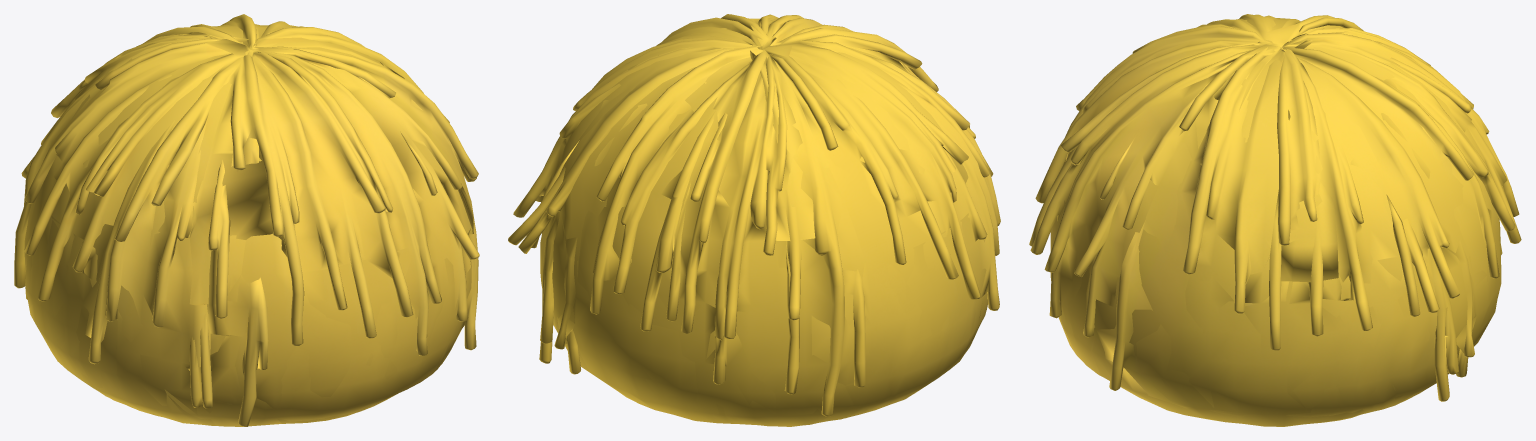
Rendered from haystack_pillow.glb.
3 views of the same model, side by side, from view 1: azimuth 30°, elevation 25°; view 2: azimuth 150°, elevation 25°; view 3: azimuth 270°, elevation 25° (orthographic).
Bounding box in the file's own units: 1.91 × 1.35 × 1.91.
Materials: 1 (1 with a texture image).
